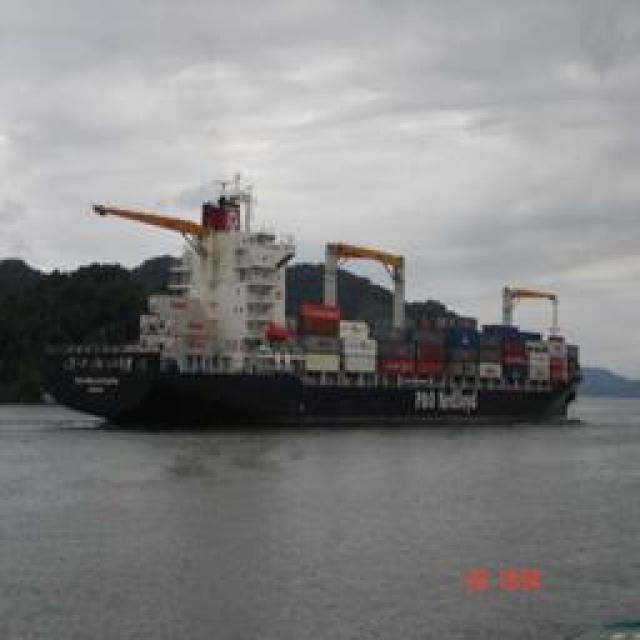CIV_Ship: (41, 174, 586, 426)
